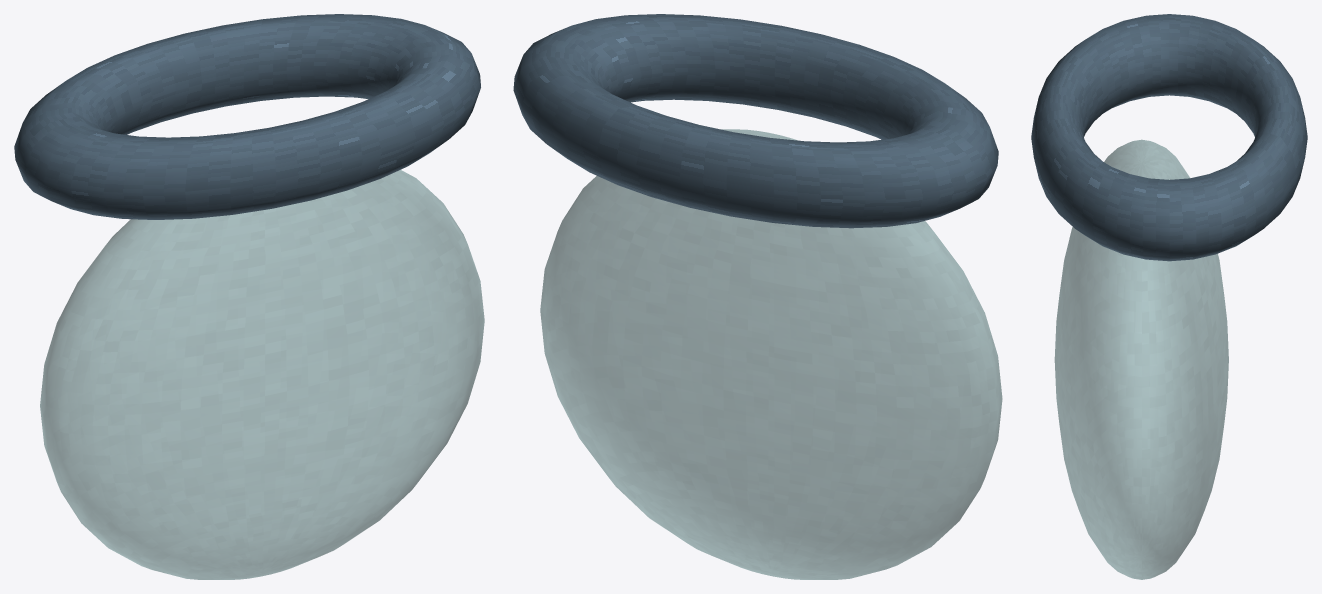
The model's file is face-shield.glb.
3 views of the same model, side by side, from view 1: azimuth 30°, elevation 25°; view 2: azimuth 150°, elevation 25°; view 3: azimuth 270°, elevation 25° (orthographic). The views are drawn at different scales.
Parts seen in each view (by area): view 1: visor, band; view 2: visor, band; view 3: visor, band.
Part boxes in pixels (x1,y1,x2,y2): visor: [40, 169, 484, 579]; band: [14, 14, 480, 219]; visor: [540, 129, 1002, 579]; band: [513, 14, 998, 228]; visor: [1054, 139, 1228, 579]; band: [1031, 14, 1307, 261].
Bounding box in the file's own units: 0.2277 × 0.2352 × 0.13.
2 materials, 2 textured.
